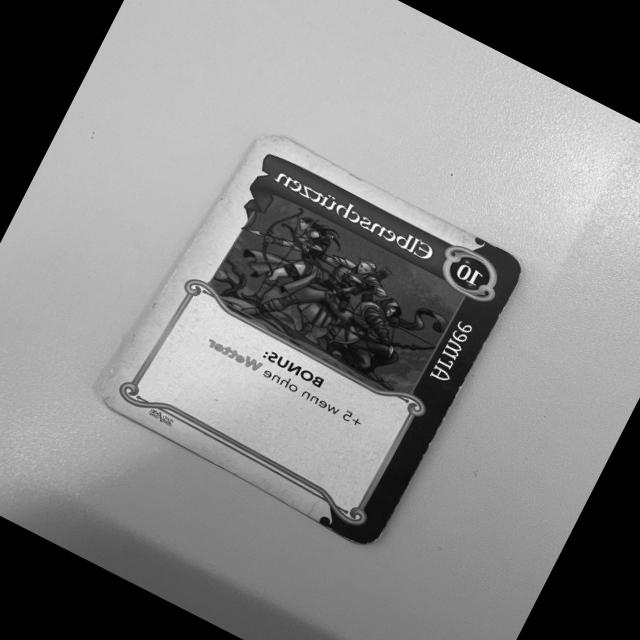Elven Archers: (91, 126, 529, 557)
